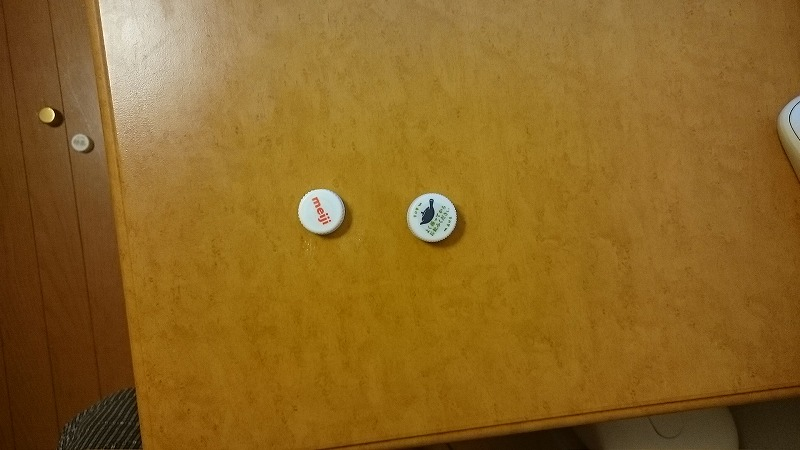A: (406, 189, 461, 248)
B: (292, 185, 351, 241)
